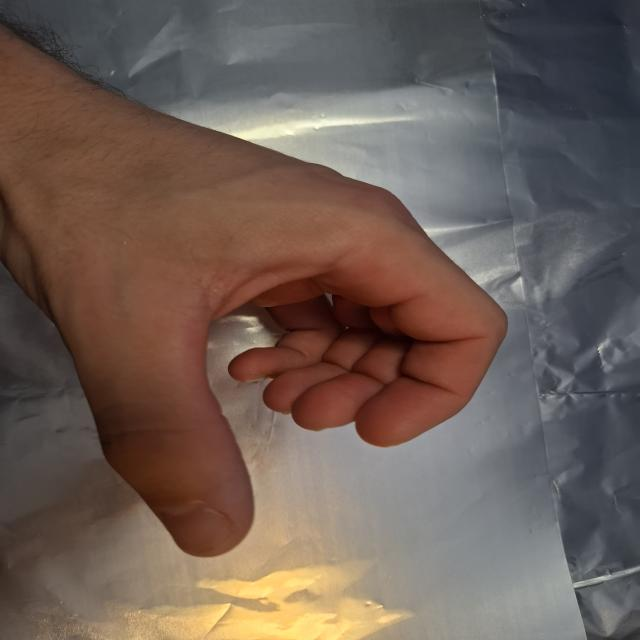glove_off: (0, 130, 510, 559)
